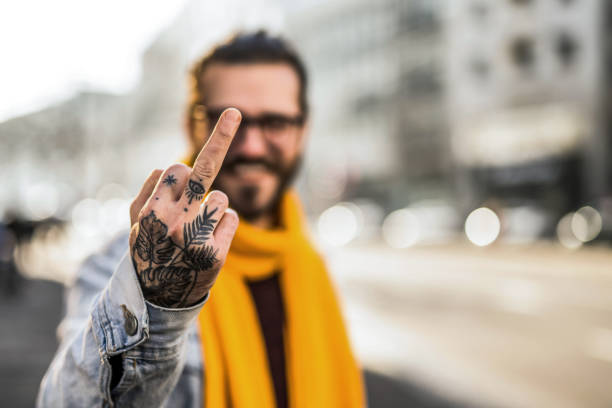insulting_gesture: (130, 102, 241, 313)
